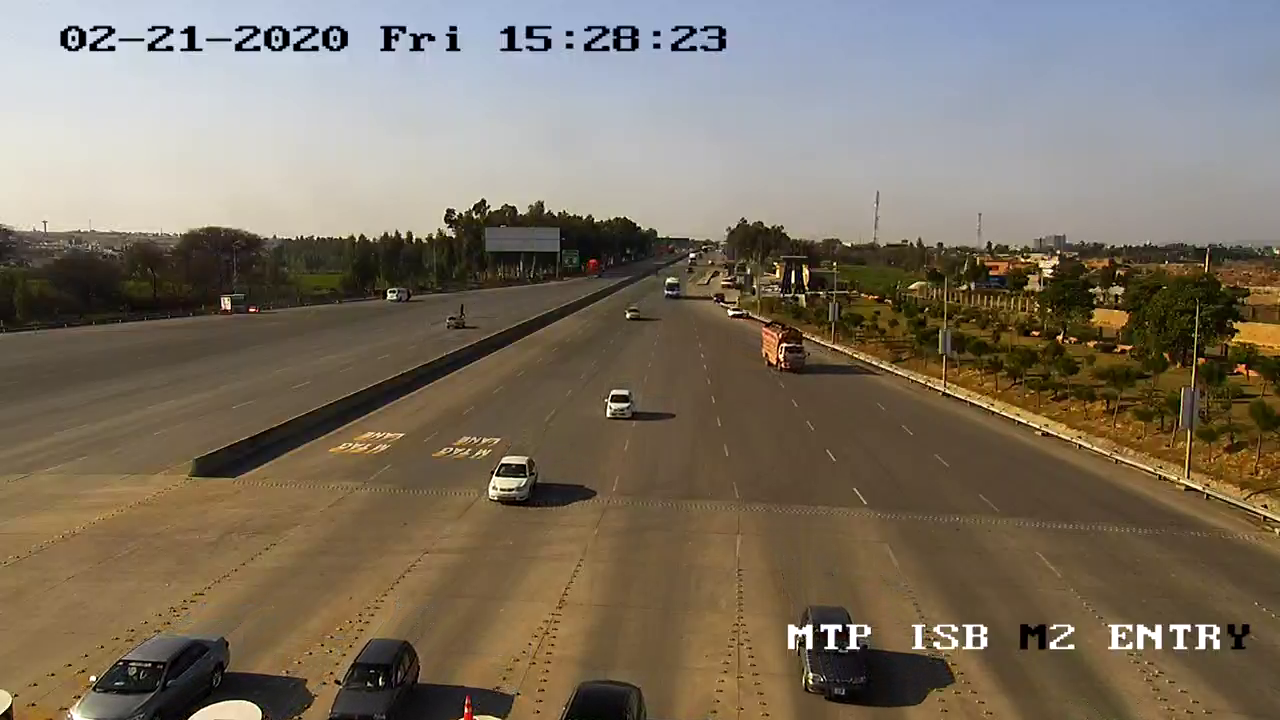f1: (478, 451, 545, 514)
